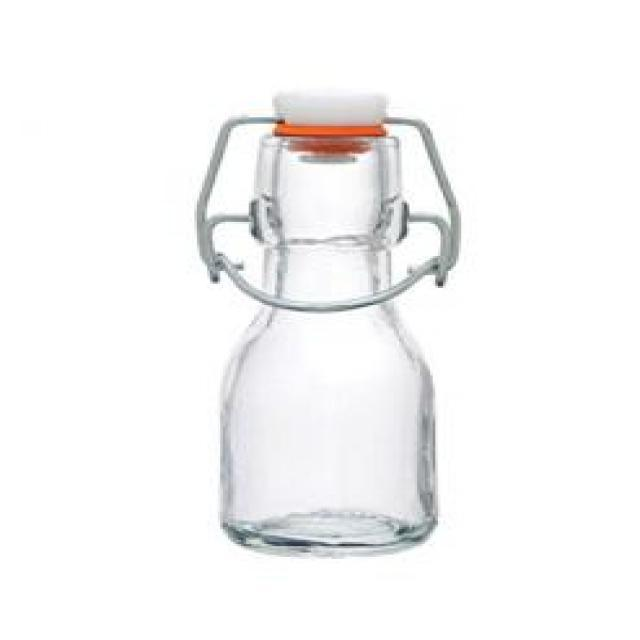glass: (180, 81, 470, 555)
